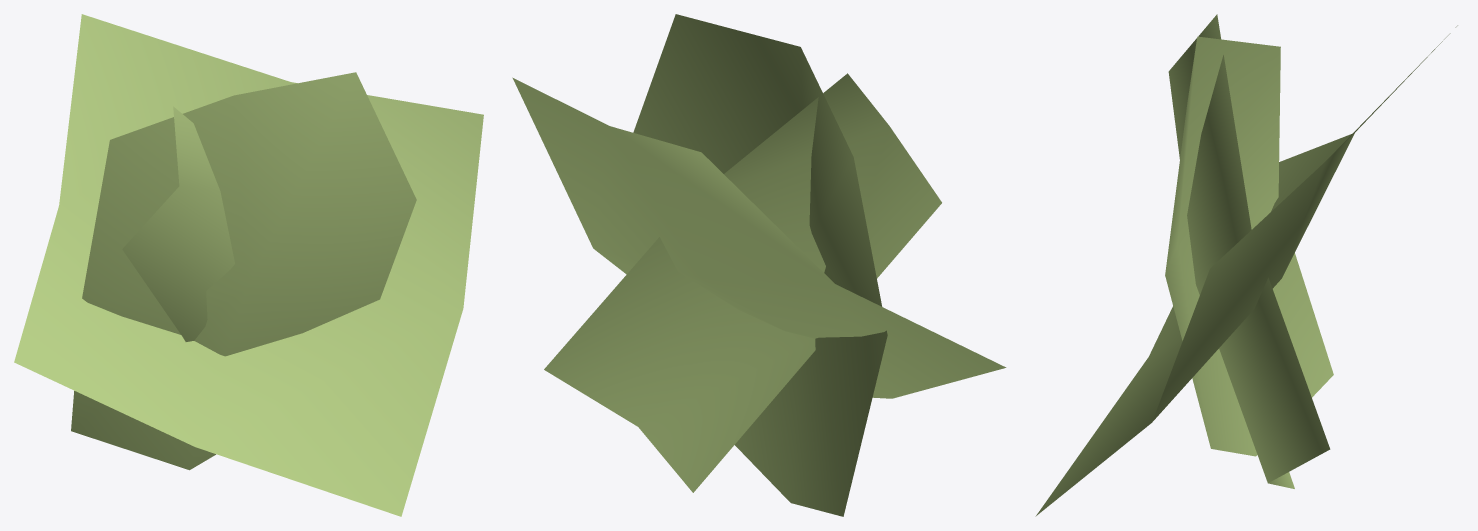
Rendered from Mesh_Confeti_1.fbx.
3 views of the same model, side by side, from view 1: azimuth 30°, elevation 25°; view 2: azimuth 150°, elevation 25°; view 3: azimuth 270°, elevation 25° (orthographic). The views are drawn at different scales.
Parts seen in each view (by area): view 1: confeti1, confeti3, confeti2; view 2: confeti2, confeti3, confeti1; view 3: confeti3, confeti2, confeti1.
Boxes of the visible parts, <box> form: confeti1: <box>14,14,483,516</box>; confeti3: <box>71,72,416,470</box>; confeti2: <box>122,106,234,341</box>; confeti2: <box>544,73,941,492</box>; confeti3: <box>633,14,887,516</box>; confeti1: <box>512,77,1006,398</box>; confeti3: <box>1165,36,1333,456</box>; confeti2: <box>1168,14,1330,488</box>; confeti1: <box>1035,25,1457,516</box>.
Bounding box in the file's own units: 0.7287 × 0.5929 × 0.5349.
